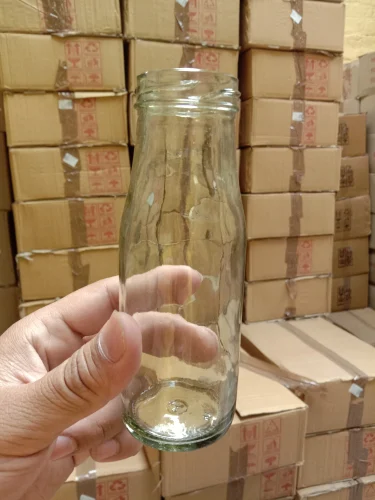glass_bottle: (115, 61, 249, 460)
